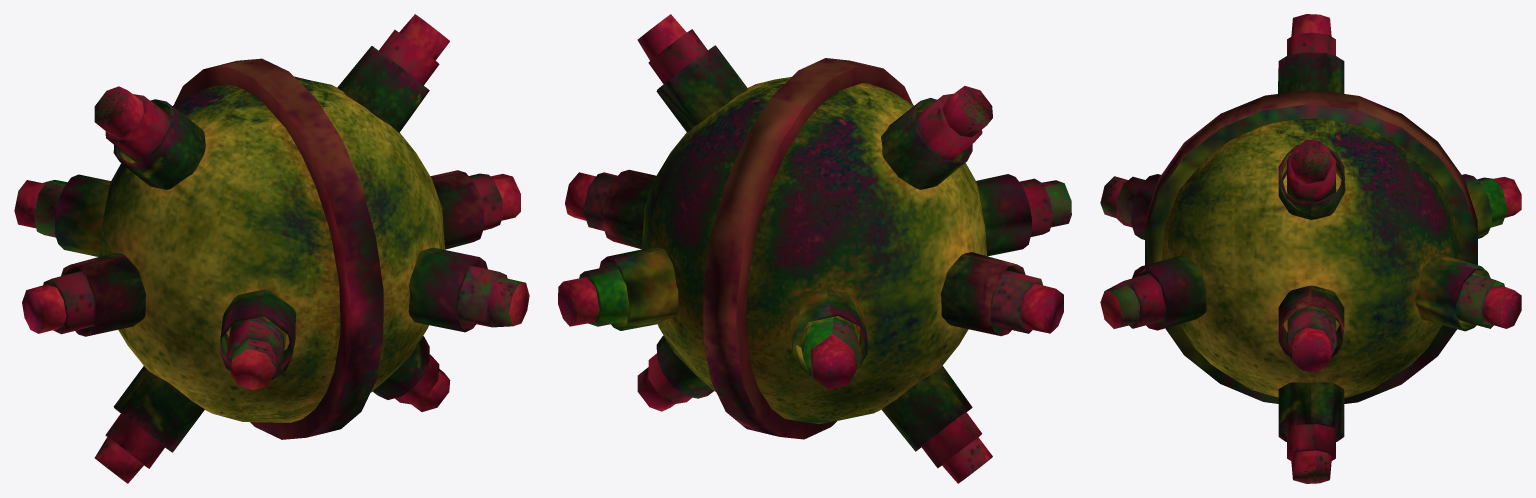
File: bomba.fbx
3 renders of one model, left to right at view 1: azimuth 30°, elevation 25°; view 2: azimuth 150°, elevation 25°; view 3: azimuth 270°, elevation 25°, orthographic. The views are drawn at different scales.
Parts seen in each view (by area): view 1: Space Bomb 1; view 2: Space Bomb 1; view 3: Space Bomb 1.
Part boxes in pixels (x1,y1,x2,y2): Space Bomb 1: (14, 14, 529, 483); Space Bomb 1: (558, 14, 1071, 483); Space Bomb 1: (1100, 14, 1521, 483).
Size of the model in its own units: 1896 by 1657 by 1495.
1 material, 1 textured.
